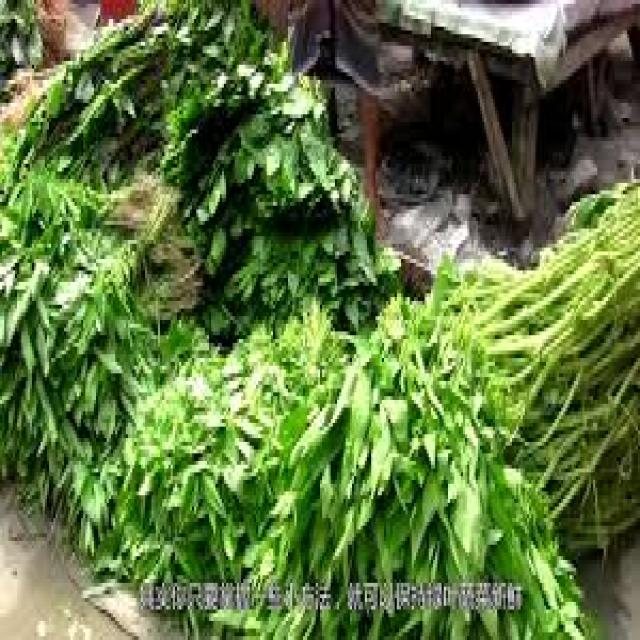food_waste: (0, 0, 638, 636)
